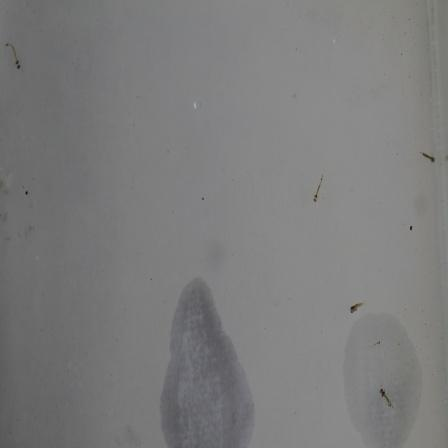Jentik-Nyamuk: (3, 38, 29, 75), (309, 169, 329, 206), (375, 384, 398, 415), (344, 296, 367, 319), (419, 148, 437, 167)
